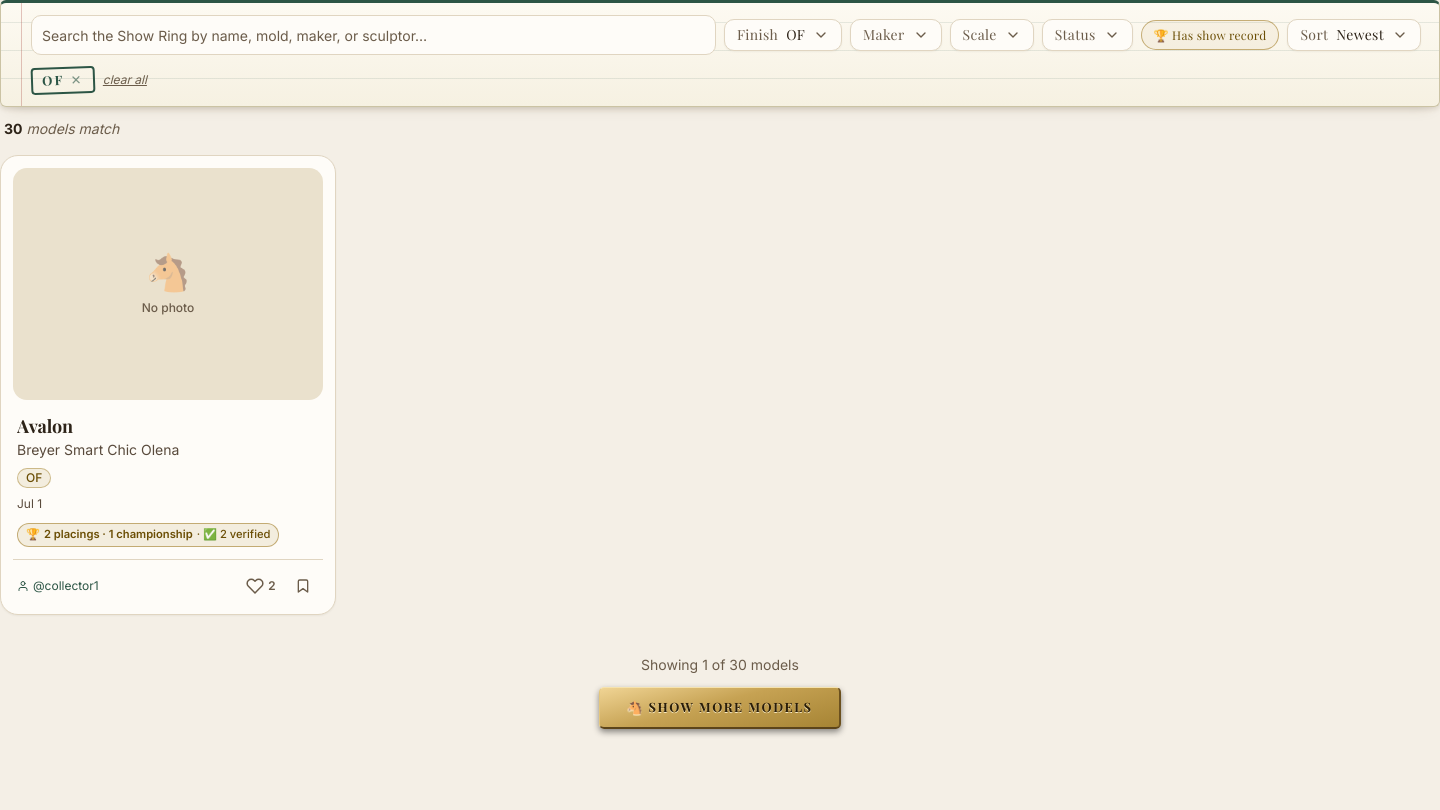
Test: ShowRingBrowser › opens the quick-look dialog and fetches that horse's record on demand
This screenshot has width=1440, height=810.
Click the button with id "record-chip-h-1".
click(148, 535)  # box left=17, top=523, right=279, bottom=547
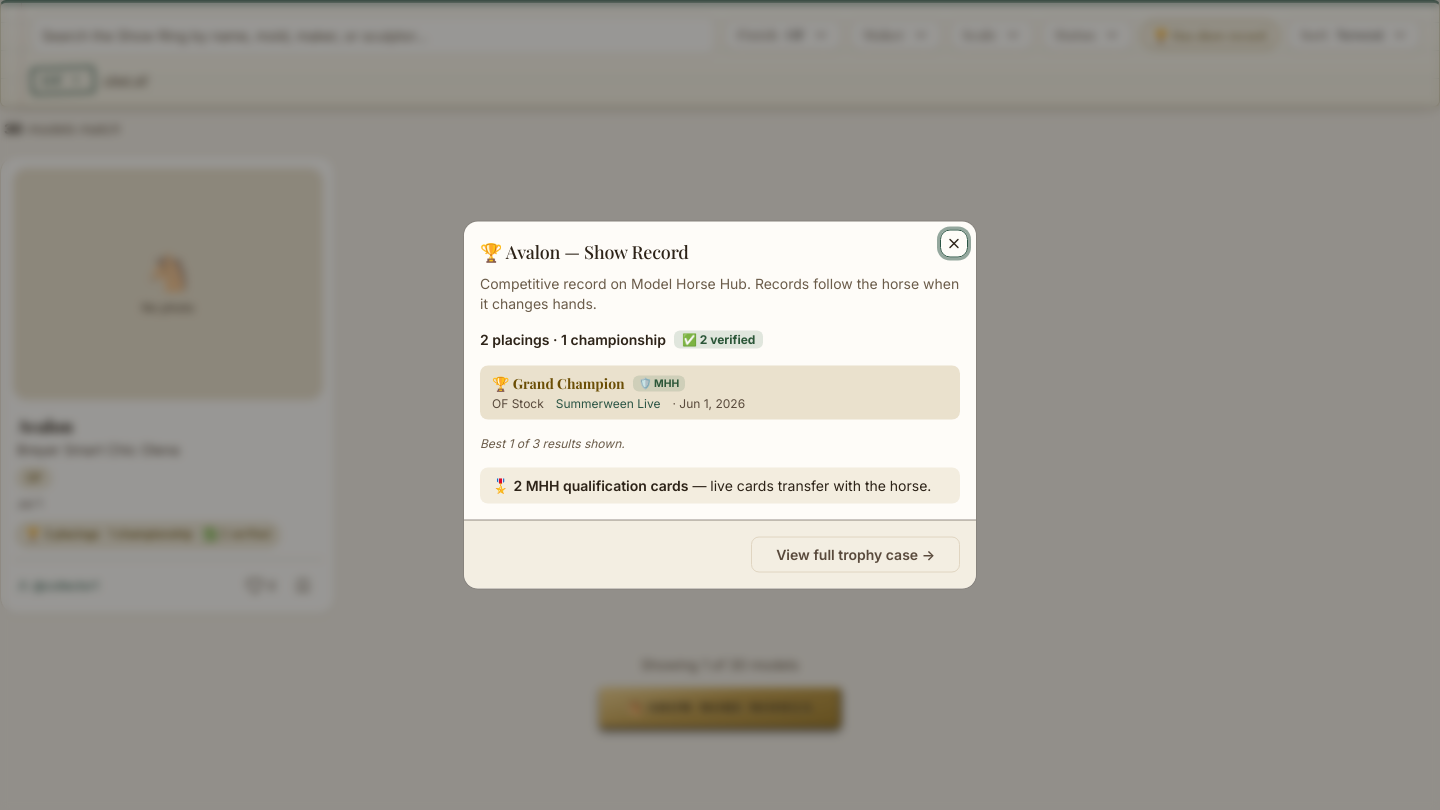
Check: the text "🏆 Grand Champion" is shown, box left=492, top=374, right=625, bottom=394
Check: the text "2 MHH qualification cards" is shown, box left=513, top=476, right=688, bottom=494
